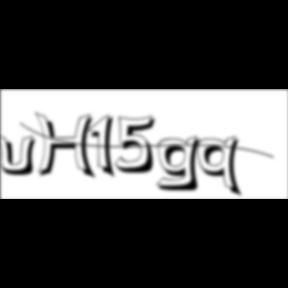1: (86, 114, 122, 182)
5: (115, 114, 162, 176)
H: (35, 112, 101, 182)
g: (156, 134, 208, 194)
q: (198, 135, 246, 200)
u: (1, 132, 44, 178)
